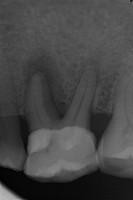Dental Caries: (24, 49, 69, 118)
